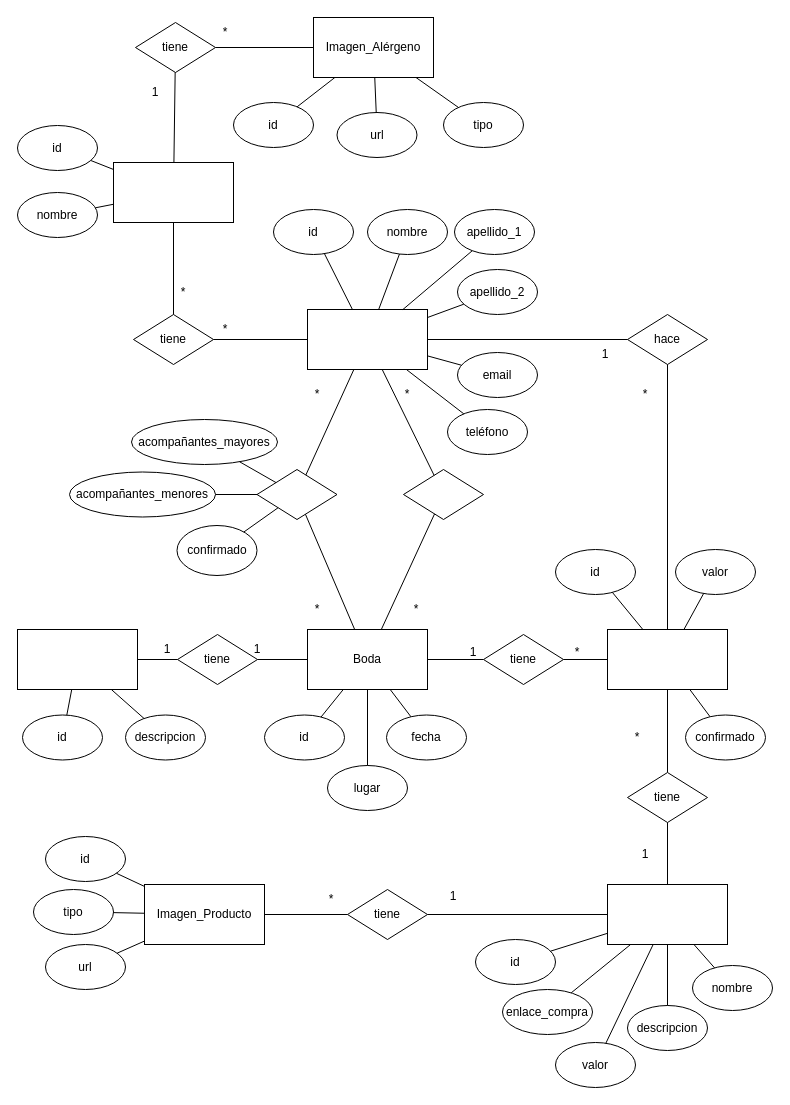
The diagram is 790 pixels wide and 1105 high, and some of its shapes have lost their labels. Each missing label, with the centre of its shape:
Alérgeno: (x=173, y=192)
es invitado: (x=296, y=494)
Itinerario: (x=77, y=659)
Producto: (x=667, y=914)
Regalo_Boda: (x=667, y=659)
se casa: (x=443, y=494)
Usuario: (x=367, y=339)
